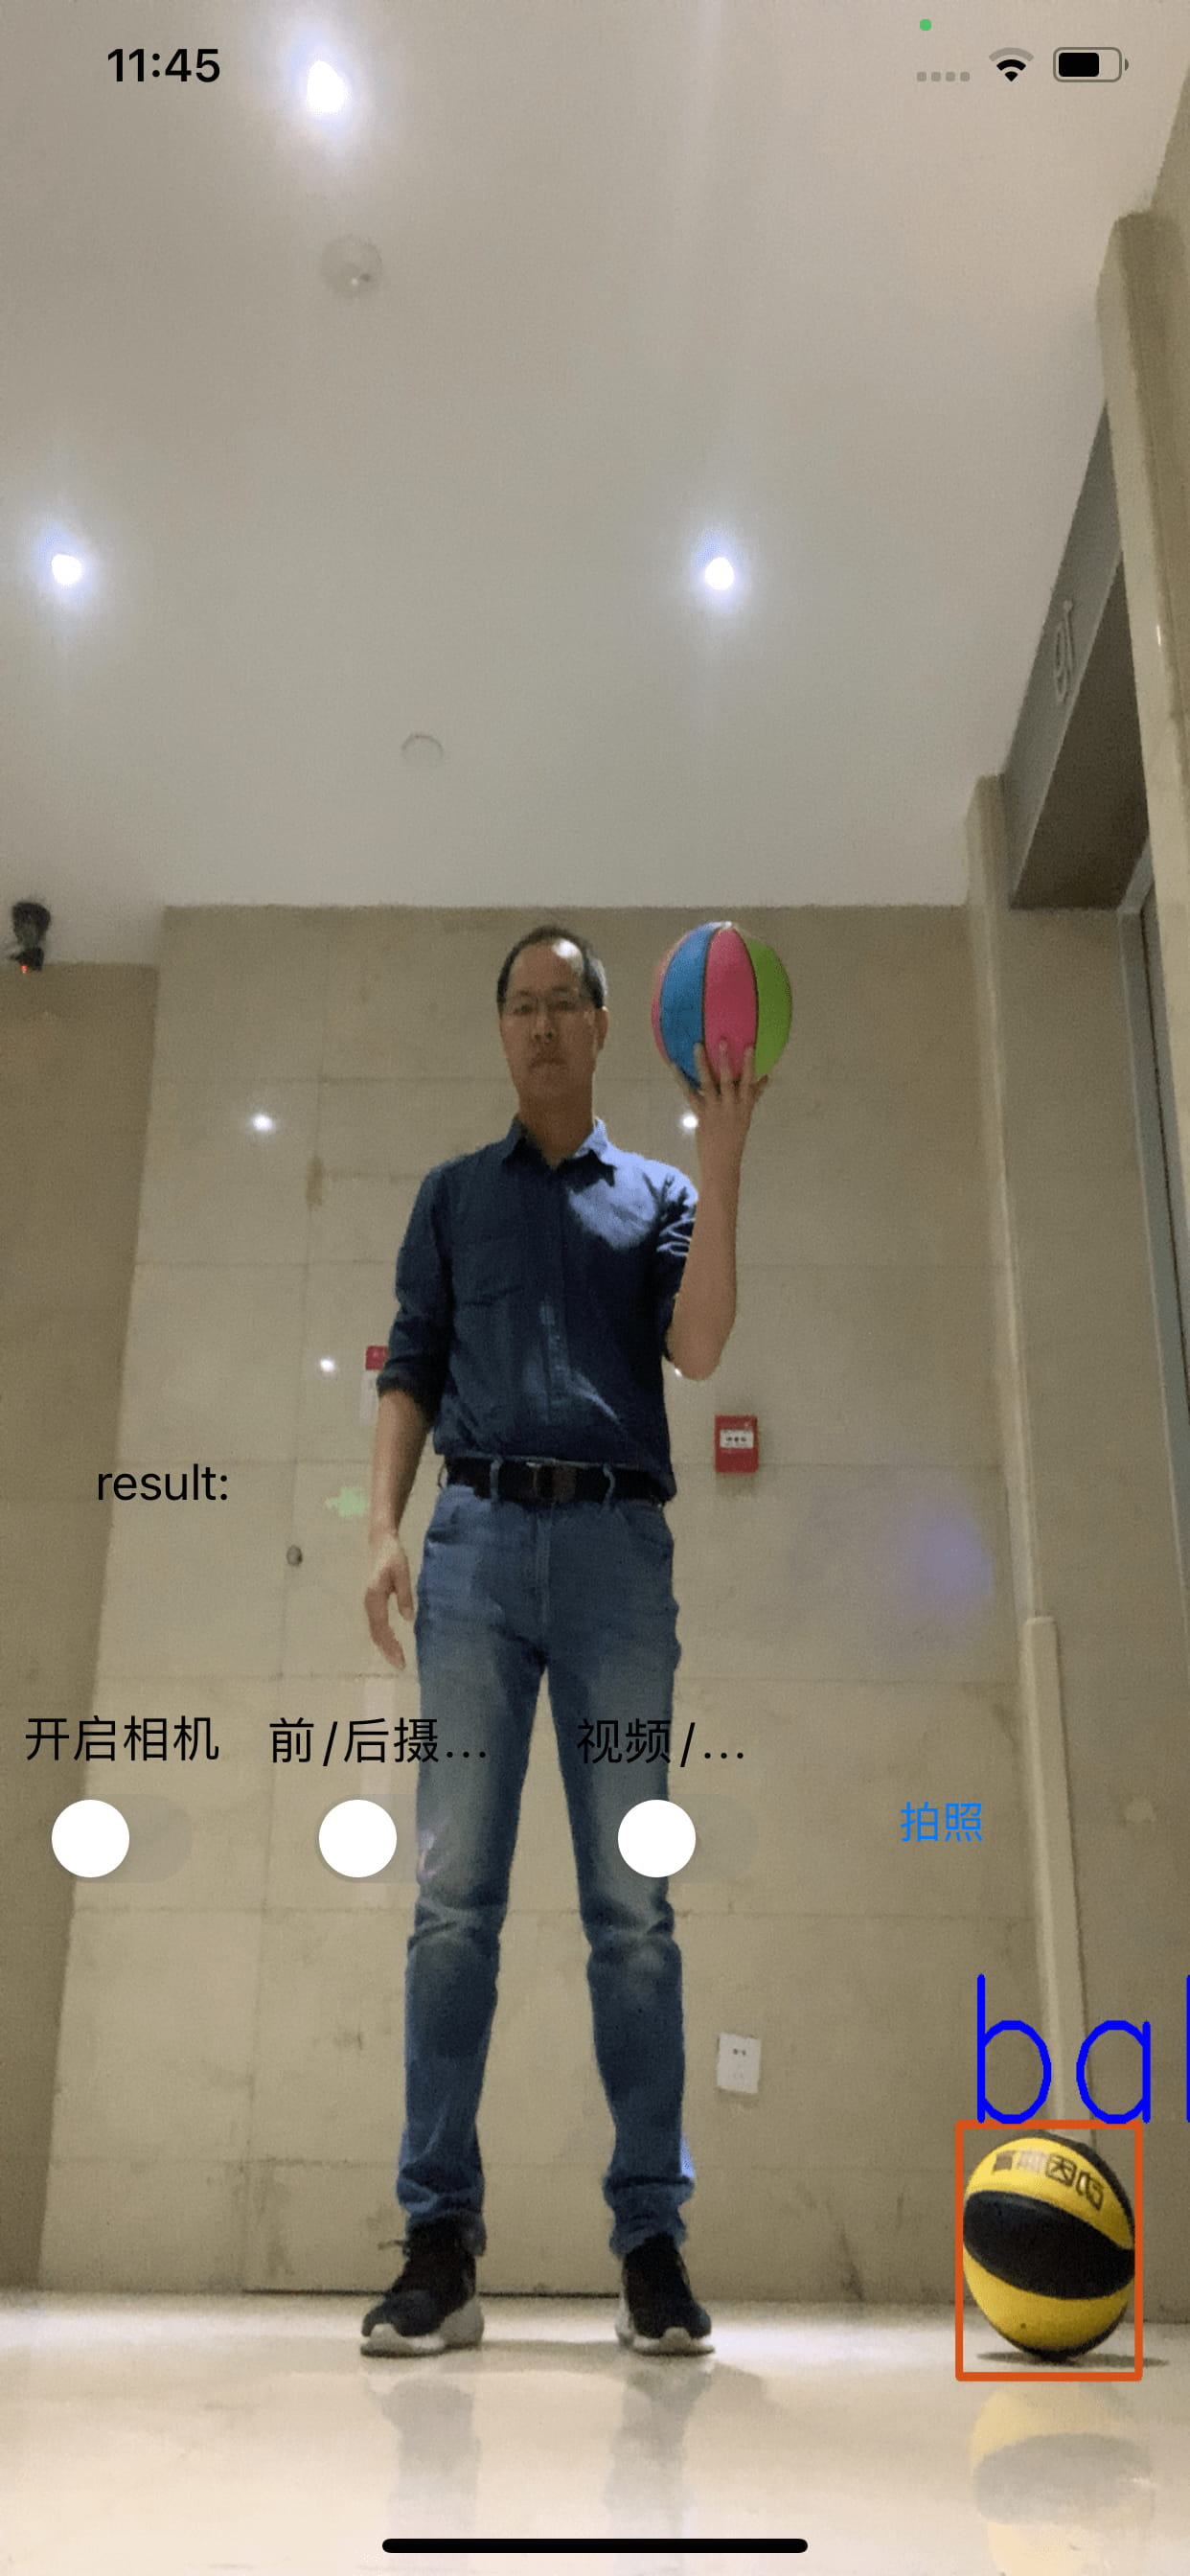ball: (966, 2136, 1131, 2362), (653, 918, 800, 1096)
